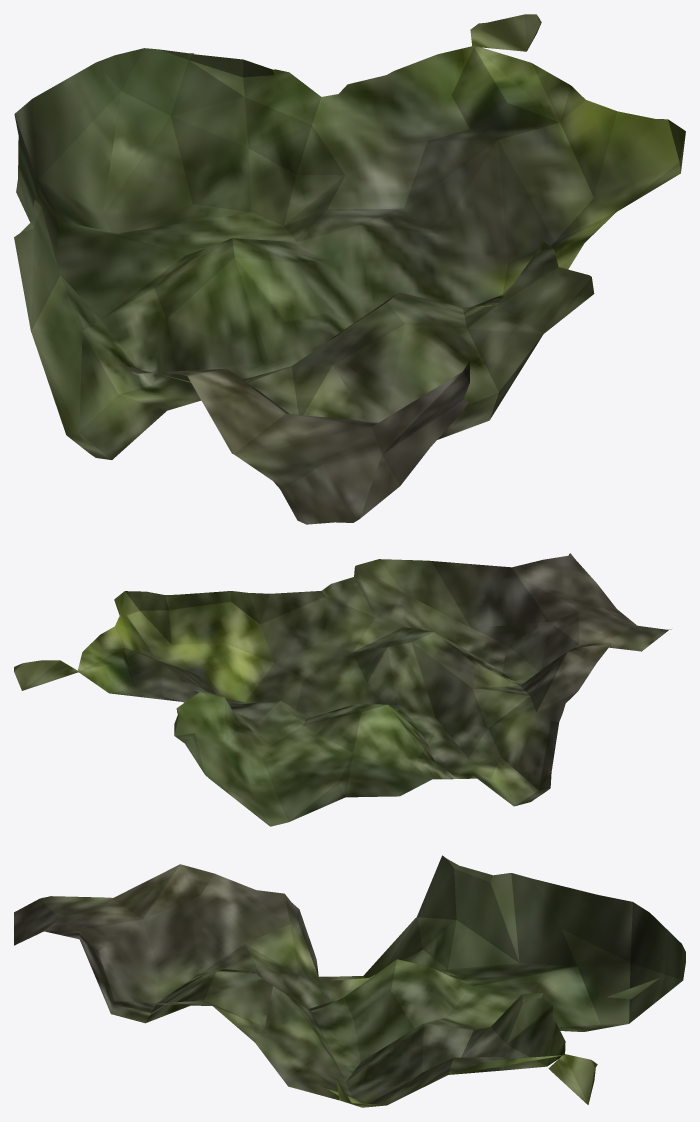
3 views of the same model, one above another, from view 1: azimuth 30°, elevation 25°; view 2: azimuth 150°, elevation 25°; view 3: azimuth 270°, elevation 25° (orthographic). The views are drawn at different scales.
Bounding box in the file's own units: 1.22 × 0.3136 × 1.51.
1 material, 1 textured.
